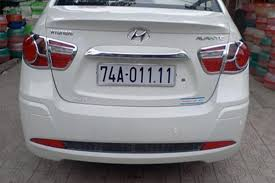number-plate: (97, 64, 176, 88)
